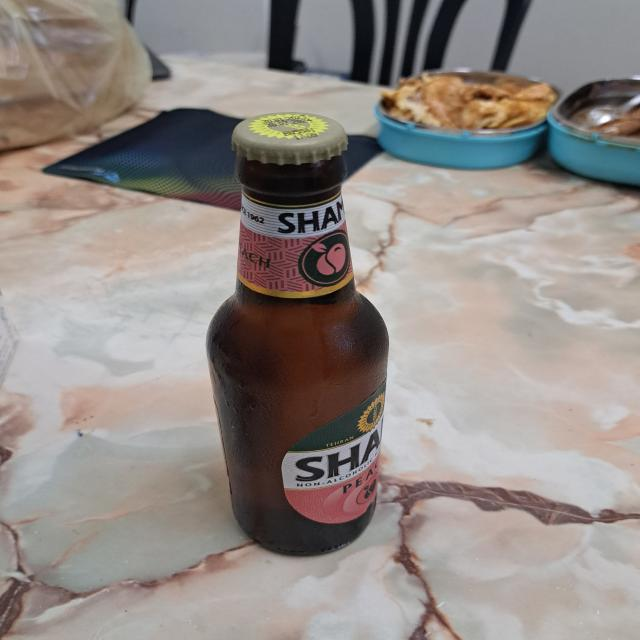glass bottle: (206, 112, 388, 558)
